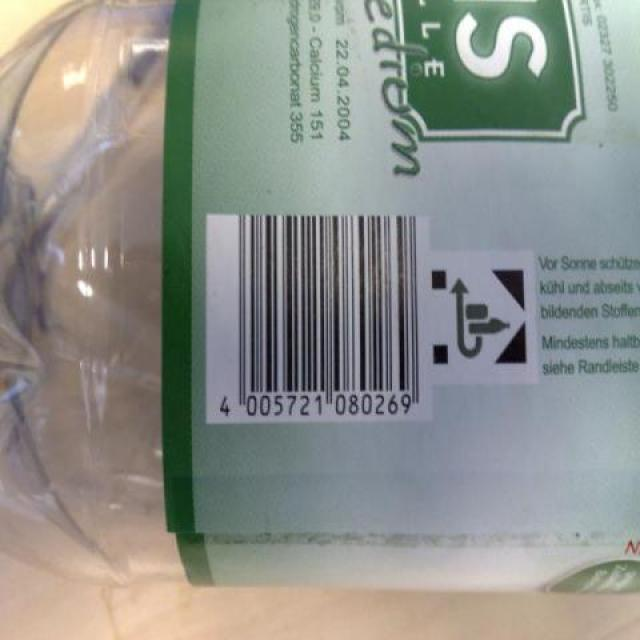Barcode: (207, 212, 433, 421)
